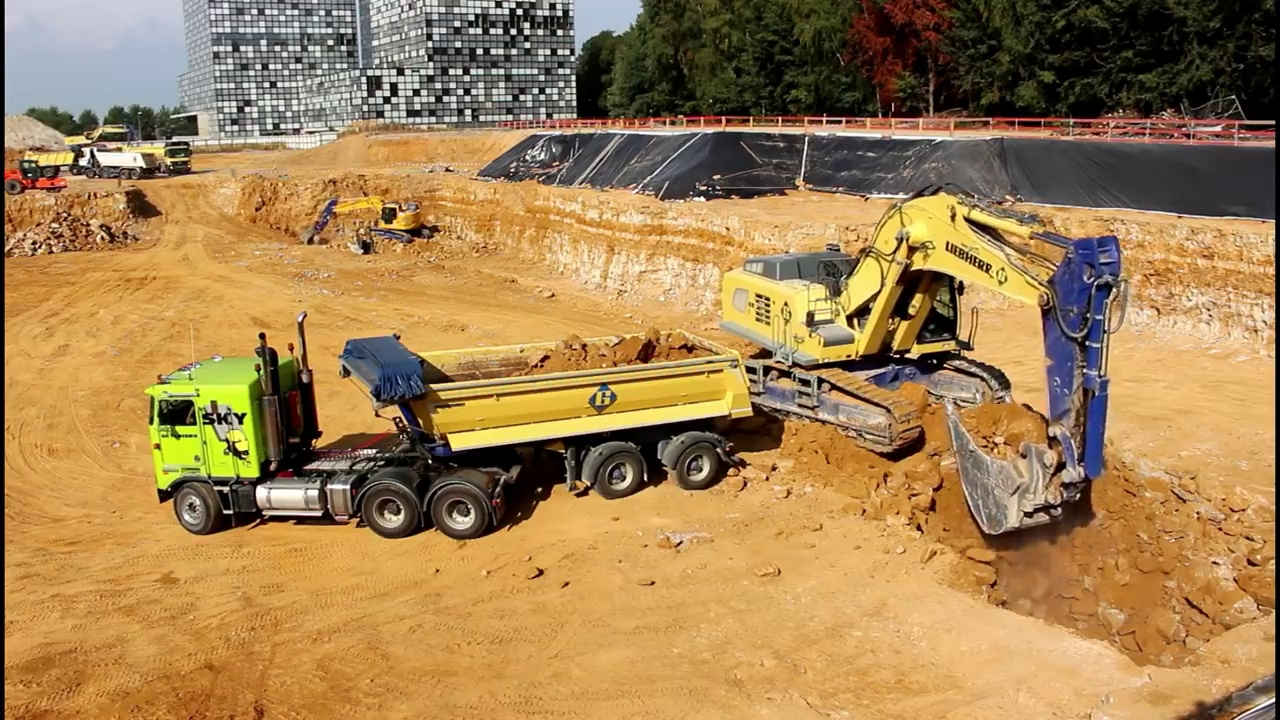compactor: (5, 158, 70, 198)
excavator: (711, 181, 1126, 545), (295, 190, 443, 258), (61, 114, 135, 154)
truck: (136, 309, 759, 547), (106, 137, 195, 176), (83, 145, 150, 182), (21, 143, 95, 175)
